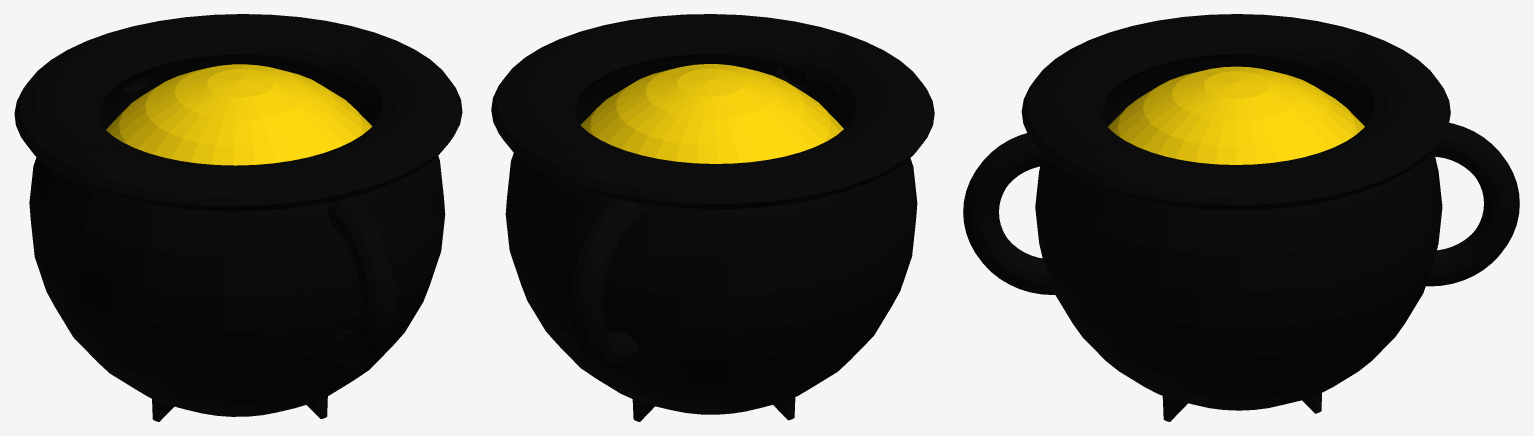
Rendered from pot.fbx.
3 renders of one model, left to right at view 1: azimuth 30°, elevation 25°; view 2: azimuth 150°, elevation 25°; view 3: azimuth 270°, elevation 25°, orthographic. The views are drawn at different scales.
Parts seen in each view (by area): view 1: Sphere.001; view 2: Sphere.001; view 3: Sphere.001.
Boxes of the visible parts, x1,y1,x2,y2 form: Sphere.001: (14, 14, 462, 421); Sphere.001: (491, 14, 934, 421); Sphere.001: (963, 14, 1519, 421).
Size of the model in its own units: 216 by 172 by 273.
